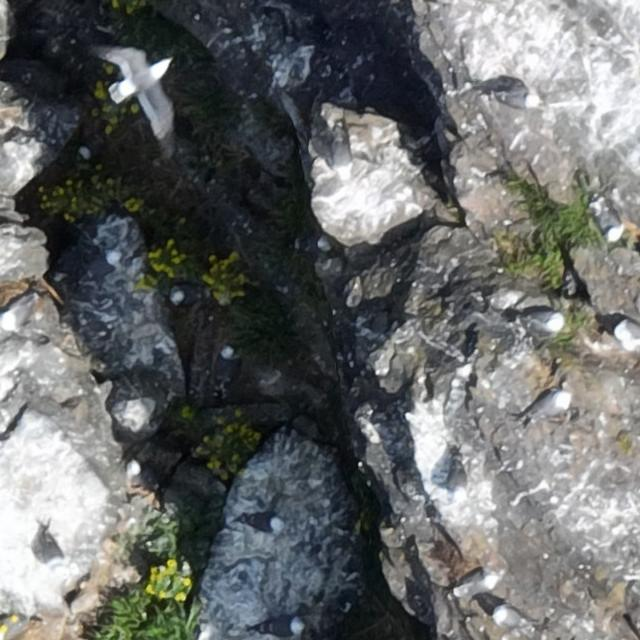F: (102, 44, 183, 153)
umineko: (80, 250, 123, 288), (42, 528, 71, 581), (327, 133, 355, 184), (446, 452, 469, 505), (494, 88, 537, 109), (531, 394, 568, 417), (596, 206, 620, 241), (456, 574, 494, 596), (216, 347, 237, 386), (524, 311, 564, 331), (259, 618, 303, 636), (244, 512, 283, 532), (171, 287, 204, 306), (618, 323, 639, 350), (494, 608, 522, 628)
